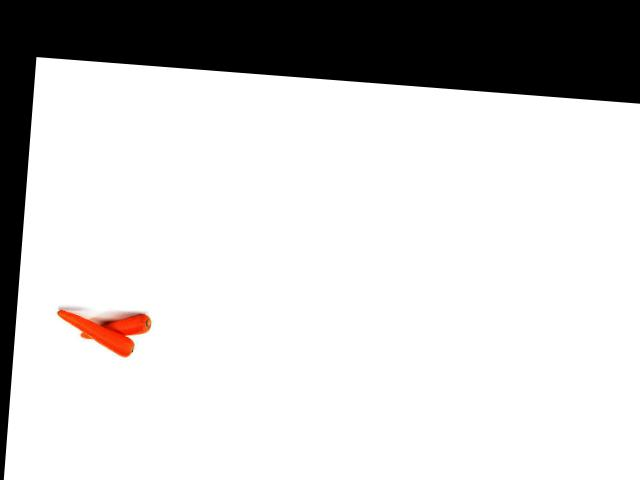carrot: (74, 309, 158, 345)
